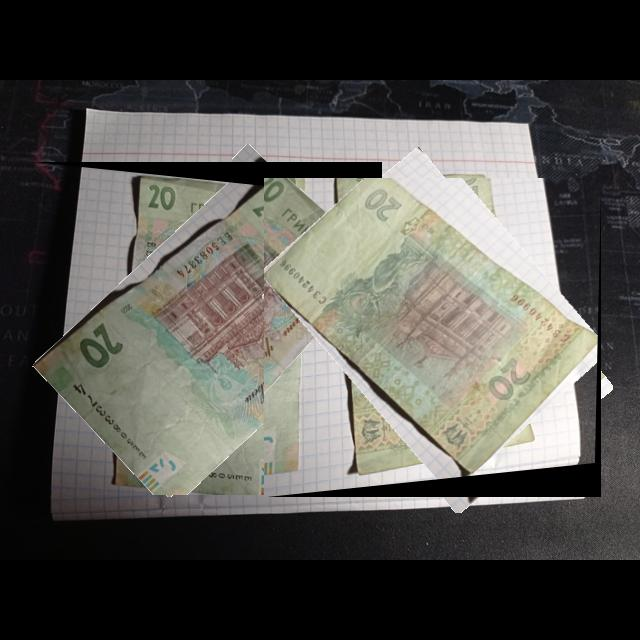20uah: (33, 182, 383, 496), (264, 178, 599, 481)
